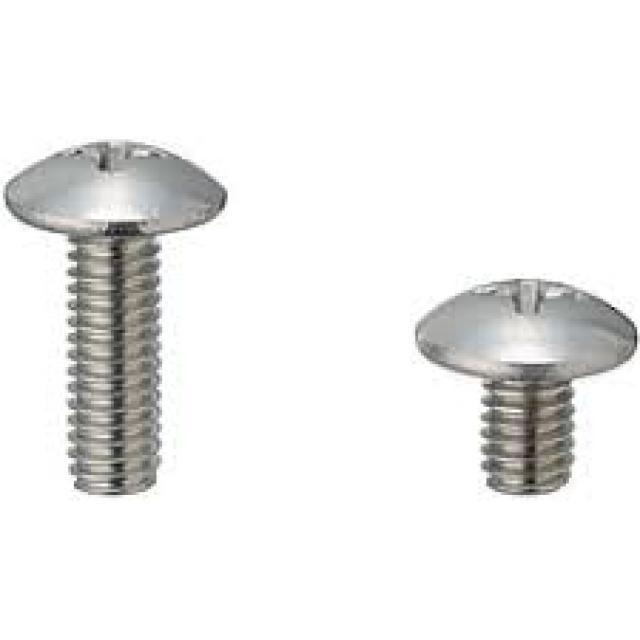Screw: (3, 139, 228, 501), (412, 279, 640, 501)
